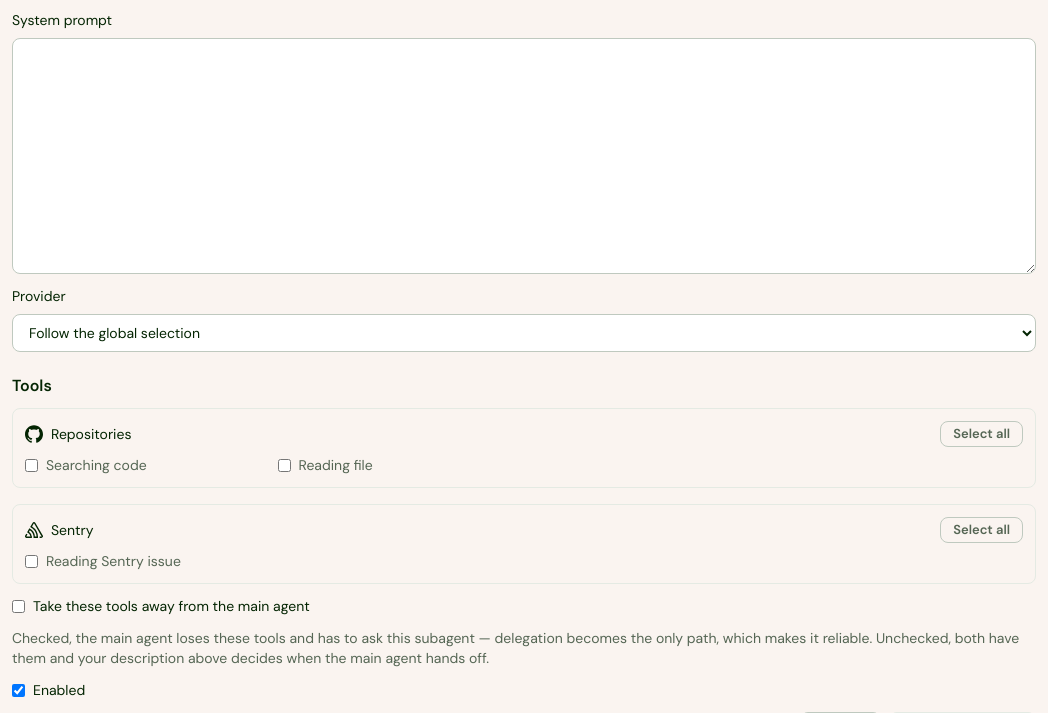
Test: SubagentForm › changes the description help text with the exclusive flag, because the patterns differ
This screenshot has width=1048, height=713.
(page scrolled)
Click the checkbox labelled "Take these tools away from the main agent": (18, 606) top-left (12, 600), bottom-right (25, 612)
(page scrolled)
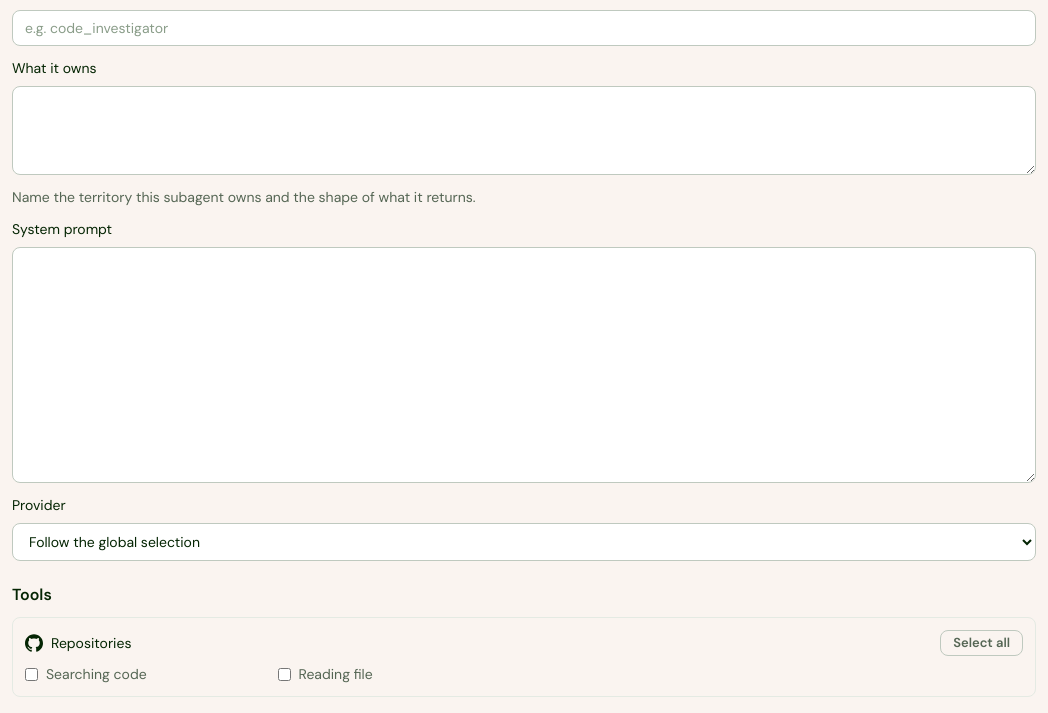
Check: the text "Name the territory this subagent owns" is shown, box top-left (12, 188), bottom-right (476, 206)
